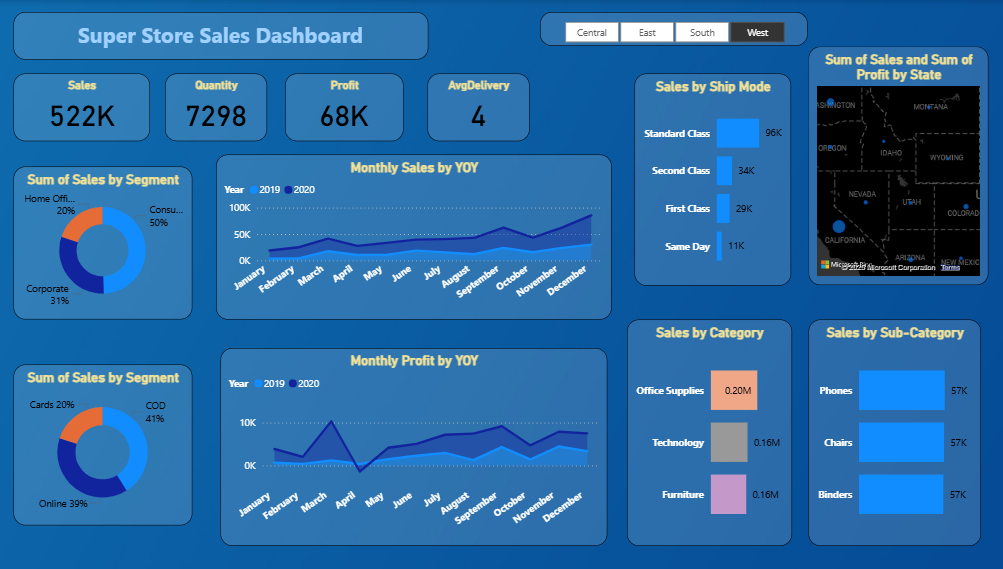

This screenshot's page, from the dashboard's own definition file:
{"tool":"powerbi","page":{"name":"Page 1","canvas":[1280,720],"ordinal":0},"visuals":[{"type":"clusteredBarChart","title":"Sales by Category","fields":{"Category":["SuperStore_Sales_Dataset.Category"],"Y":["Sum(SuperStore_Sales_Dataset.Sales)"]},"box":[805,402.5,207.9,285.4],"z":0},{"type":"clusteredBarChart","title":"Sales by Sub-Category","fields":{"Y":["Sum(SuperStore_Sales_Dataset.Sales)"],"Category":["SuperStore_Sales_Dataset.Sub-Category"]},"box":[1033.7,402.5,217.3,285.4],"z":1000},{"type":"clusteredBarChart","title":"Sales by Ship Mode","fields":{"Y":["Sum(SuperStore_Sales_Dataset.Sales)"],"Category":["SuperStore_Sales_Dataset.Ship Mode"]},"box":[815,92.5,197.5,267.5],"z":2000},{"type":"stackedAreaChart","title":"Monthly Sales by YOY","fields":{"Y":["Sum(SuperStore_Sales_Dataset.Sales)"],"Category":["SuperStore_Sales_Dataset.Order Date.Variation.Date Hierarchy.Month","SuperStore_Sales_Dataset.Order Date.Variation.Date Hierarchy.Day"],"Series":["SuperStore_Sales_Dataset.Order Date.Variation.Date Hierarchy.Year"]},"box":[287.2,194.6,498.9,207.9],"z":3000},{"type":"stackedAreaChart","title":"Monthly Profit by YOY","fields":{"Category":["SuperStore_Sales_Dataset.Order Date.Variation.Date Hierarchy.Month","SuperStore_Sales_Dataset.Order Date.Variation.Date Hierarchy.Day"],"Series":["SuperStore_Sales_Dataset.Order Date.Variation.Date Hierarchy.Year"],"Y":["Sum(SuperStore_Sales_Dataset.Profit)"]},"box":[292.9,438.4,487.6,249.5],"z":4000},{"type":"map","fields":{"Category":["SuperStore_Sales_Dataset.State"],"Size":["Sum(SuperStore_Sales_Dataset.Sales)"]},"box":[1033.7,58.6,226.8,300.5],"z":5000},{"type":"donutChart","title":"Sum of Sales by Segment","fields":{"Category":["SuperStore_Sales_Dataset.Segment"],"Y":["Sum(SuperStore_Sales_Dataset.Row ID+O6G3A1:R6)"]},"box":[32.5,210,225,192.5],"z":6000},{"type":"donutChart","title":"Sum of Sales by Segment","fields":{"Y":["Sum(SuperStore_Sales_Dataset.Row ID+O6G3A1:R6)"],"Category":["SuperStore_Sales_Dataset.Payment Mode"]},"box":[32.5,460,225,202.5],"z":7000},{"type":"slicer","fields":{"Values":["SuperStore_Sales_Dataset.Region"]},"box":[695,15,337.5,42.5],"z":8000},{"type":"textbox","box":[32.5,15,522.5,60],"z":9000},{"type":"card","title":"Sales","fields":{"Values":["Sum(SuperStore_Sales_Dataset.Sales)"]},"box":[32.1,92.6,172,85],"z":10000},{"type":"card","title":"Quantity","fields":{"Values":["Sum(SuperStore_Sales_Dataset.Quantity)"]},"box":[223,92.6,128.5,85],"z":11000},{"type":"card","title":"Profit","fields":{"Values":["Sum(SuperStore_Sales_Dataset.Profit)"]},"box":[374.2,92.6,149.3,85],"z":12000},{"type":"card","title":"AvgDelivery","fields":{"Values":["Avg(SuperStore_Sales_Dataset.AvgDelivery)"]},"box":[553.7,92.6,128.5,85],"z":13000}]}

Visuals, with their boxes in screenshot pixels (x1, y1, x2, y2), scaled from the page's 1280x720 canvas onto the 1003x569 screenshot:
"Sales by Category" clusteredBarChart: <region>631, 318, 794, 544</region>
"Sales by Sub-Category" clusteredBarChart: <region>810, 318, 980, 544</region>
"Sales by Ship Mode" clusteredBarChart: <region>639, 73, 793, 284</region>
"Monthly Sales by YOY" stackedAreaChart: <region>225, 154, 616, 318</region>
"Monthly Profit by YOY" stackedAreaChart: <region>230, 346, 612, 544</region>
map - SuperStore_Sales_Dataset.State x Sum(SuperStore_Sales_Dataset.Sales): <region>810, 46, 988, 284</region>
"Sum of Sales by Segment" donutChart: <region>25, 166, 202, 318</region>
"Sum of Sales by Segment" donutChart: <region>25, 364, 202, 524</region>
slicer - SuperStore_Sales_Dataset.Region: <region>545, 12, 809, 45</region>
textbox: <region>25, 12, 435, 59</region>
"Sales" card: <region>25, 73, 160, 140</region>
"Quantity" card: <region>175, 73, 275, 140</region>
"Profit" card: <region>293, 73, 410, 140</region>
"AvgDelivery" card: <region>434, 73, 535, 140</region>
